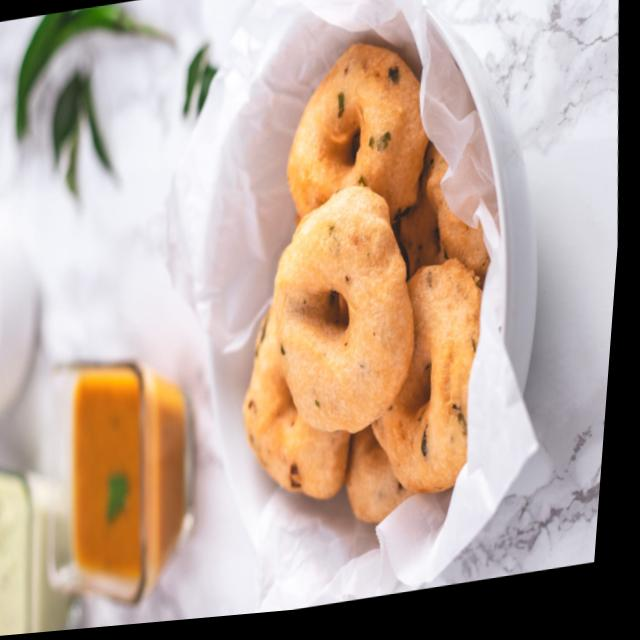SAMBAR: (70, 368, 171, 595)
VADA: (239, 43, 486, 527)
